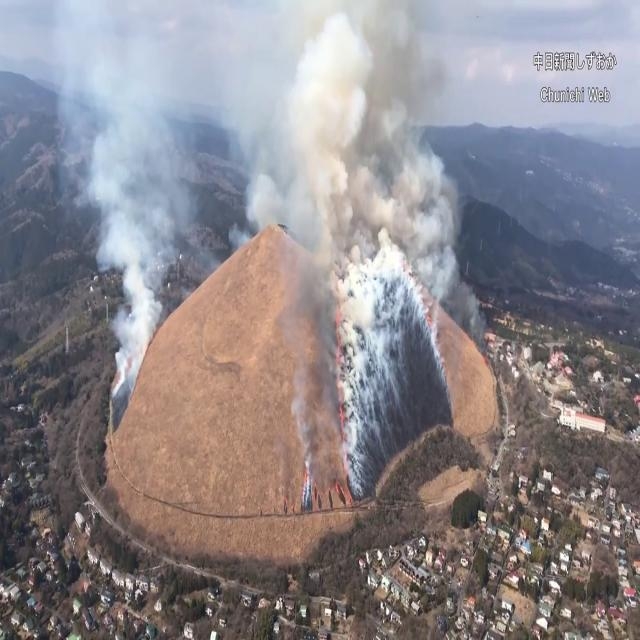Smoke: (211, 1, 482, 338), (48, 0, 234, 359)
